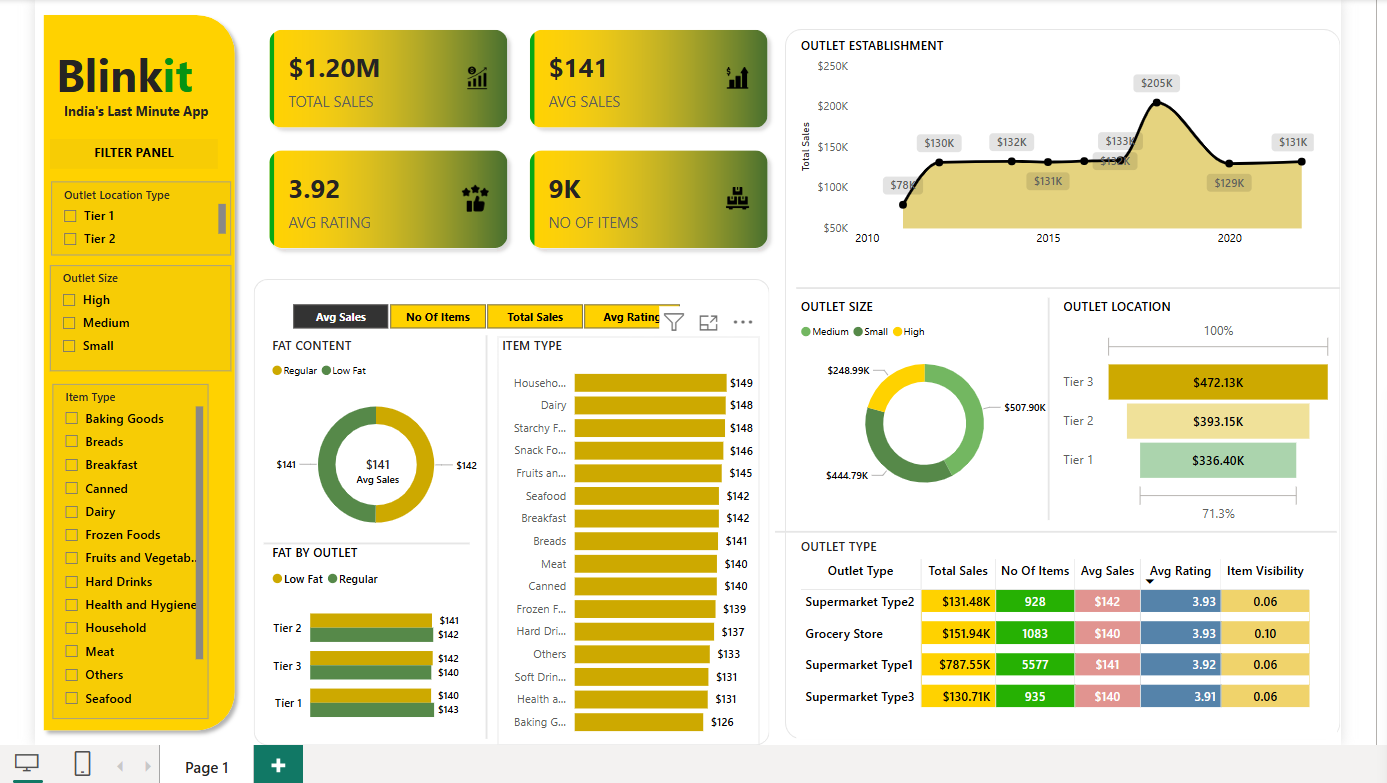

The dashboard page shown, as its layout file describes it:
{"tool":"powerbi","page":{"name":"Page 1","canvas":[1400,800],"ordinal":0},"visuals":[{"type":"shape","box":[0,8.3,223.2,785.4],"z":0},{"type":"textbox","box":[17,43,200,105],"z":1000},{"type":"textbox","box":[0,105.4,217,43.4],"z":2000},{"type":"cardVisual","fields":{"Data":["BlinkIT Grocery Data.Total Sales","BlinkIT Grocery Data.Avg Sales","BlinkIT Grocery Data.Avg Rating","BlinkIT Grocery Data.No Of Items"]},"box":[235.1,15.9,569.1,268.6],"z":3000},{"type":"shape","box":[235.1,300.4,553.2,500.2],"z":4000},{"type":"donutChart","title":"FAT CONTENT","fields":{"Y":["BlinkIT Grocery Data.Avg Sales"],"Category":["BlinkIT Grocery Data.Item Fat Content"]},"box":[249.2,362.3,233.3,229.8],"z":5000},{"type":"slicer","fields":{"Values":["Metrics.Metrics"]},"box":[251,319.9,465,40],"z":6000},{"type":"cardVisual","fields":{"Data":["BlinkIT Grocery Data.Avg Sales"]},"box":[311.1,473.6,113.1,63.6],"z":7000},{"type":"clusteredBarChart","title":"FAT BY OUTLET","fields":{"Y":["BlinkIT Grocery Data.Avg Sales"],"Category":["BlinkIT Grocery Data.Outlet Location Type"],"Series":["BlinkIT Grocery Data.Item Fat Content"]},"box":[249.2,585,210.3,208.5],"z":8000},{"type":"shape","box":[245.7,572.6,220.9,23],"z":9000},{"type":"shape","box":[471.9,360.5,24.7,433],"z":10000},{"type":"barChart","title":"ITEM TYPE","fields":{"Y":["BlinkIT Grocery Data.Avg Sales"],"Category":["BlinkIT Grocery Data.Item Type"]},"box":[496.6,362.3,279.2,438.3],"z":11000},{"type":"shape","box":[804.1,31.8,595.6,761.7],"z":12000},{"type":"lineChart","title":"OUTLET ESTABLISHMENT","fields":{"Y":["BlinkIT Grocery Data.Total Sales"],"Category":["BlinkIT Grocery Data.Outlet Establishment Year"]},"box":[816.5,40.6,560.2,235.1],"z":13000},{"type":"shape","box":[816.5,300.4,583.2,19.4],"z":14000},{"type":"donutChart","title":"OUTLET SIZE","fields":{"Y":["BlinkIT Grocery Data.Total Sales"],"Category":["BlinkIT Grocery Data.Outlet Size"]},"box":[816.5,319.9,275.7,224.5],"z":15000},{"type":"shape","box":[1081.6,319.9,10.6,238.6],"z":16000},{"type":"funnel","title":"OUTLET LOCATION","fields":{"Y":["BlinkIT Grocery Data.Total Sales"],"Category":["BlinkIT Grocery Data.Outlet Location Type"]},"box":[1097.5,319.9,298.7,247.4],"z":17000},{"type":"shape","box":[793.5,562,602.7,19.4],"z":18000},{"type":"pivotTable","title":"OUTLET TYPE","fields":{"Rows":["BlinkIT Grocery Data.Outlet Type"],"Values":["BlinkIT Grocery Data.Total Sales","BlinkIT Grocery Data.No Of Items","BlinkIT Grocery Data.Avg Sales","BlinkIT Grocery Data.Avg Rating","Avg(BlinkIT Grocery Data.Item Visibility)"]},"box":[816.5,577.9,579.7,215.6],"z":19000},{"type":"slicer","fields":{"Values":["BlinkIT Grocery Data.Outlet Location Type"]},"box":[17.4,195.7,193,79.1],"z":20000},{"type":"slicer","fields":{"Values":["BlinkIT Grocery Data.Outlet Size"]},"box":[16.1,285.5,194.4,113.9],"z":21000},{"type":"slicer","fields":{"Values":["BlinkIT Grocery Data.Item Type"]},"box":[18.8,412.9,167.6,359.3],"z":22000},{"type":"textbox","box":[15.9,150.2,180.3,31.8],"z":23000}]}

Visuals, with their boxes on the page's 1400x800 design canvas (x1, y1, x2, y2). These are canvas units, not pixel positions in the 1387x783 screenshot, which may show the page scaled, cropped or inside an application window:
shape: box=[0, 8, 223, 794]
textbox: box=[17, 43, 217, 148]
textbox: box=[0, 105, 217, 149]
cardVisual - BlinkIT Grocery Data.Total Sales x BlinkIT Grocery Data.Avg Sales: box=[235, 16, 804, 284]
shape: box=[235, 300, 788, 801]
"FAT CONTENT" donutChart: box=[249, 362, 482, 592]
slicer - Metrics.Metrics: box=[251, 320, 716, 360]
cardVisual - BlinkIT Grocery Data.Avg Sales: box=[311, 474, 424, 537]
"FAT BY OUTLET" clusteredBarChart: box=[249, 585, 460, 794]
shape: box=[246, 573, 467, 596]
shape: box=[472, 360, 497, 794]
"ITEM TYPE" barChart: box=[497, 362, 776, 801]
shape: box=[804, 32, 1400, 794]
"OUTLET ESTABLISHMENT" lineChart: box=[816, 41, 1377, 276]
shape: box=[816, 300, 1400, 320]
"OUTLET SIZE" donutChart: box=[816, 320, 1092, 544]
shape: box=[1082, 320, 1092, 558]
"OUTLET LOCATION" funnel: box=[1098, 320, 1396, 567]
shape: box=[794, 562, 1396, 581]
"OUTLET TYPE" pivotTable: box=[816, 578, 1396, 794]
slicer - BlinkIT Grocery Data.Outlet Location Type: box=[17, 196, 210, 275]
slicer - BlinkIT Grocery Data.Outlet Size: box=[16, 286, 210, 399]
slicer - BlinkIT Grocery Data.Item Type: box=[19, 413, 186, 772]
textbox: box=[16, 150, 196, 182]
